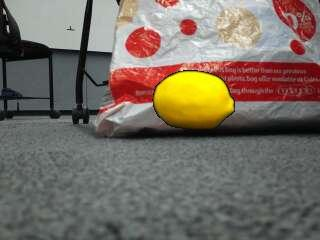lemon: (154, 72, 233, 129)
